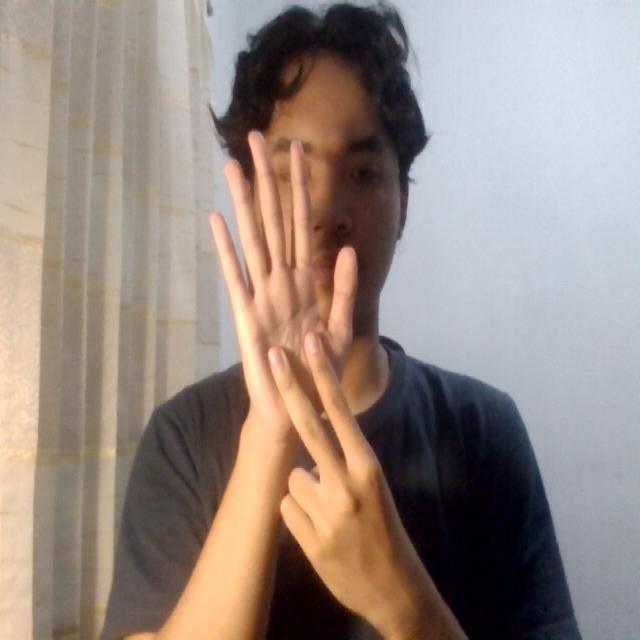IloveYou: (194, 114, 395, 570)
